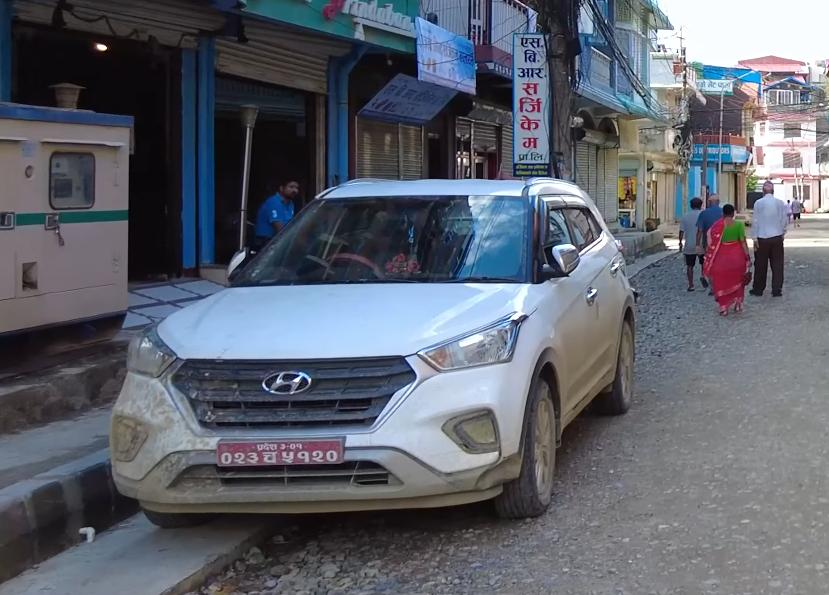car: (105, 158, 635, 533)
